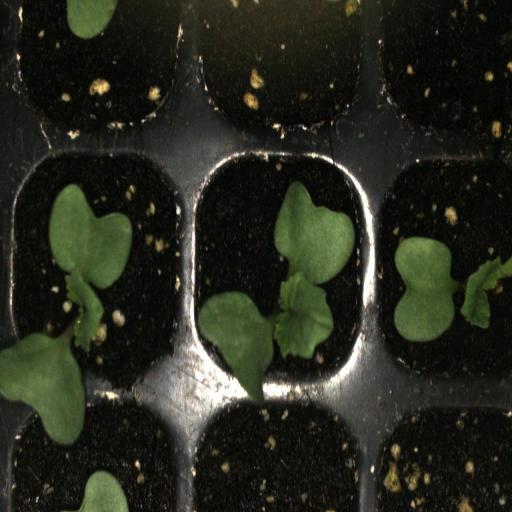noseedling: (188, 0, 370, 142), (185, 393, 369, 512), (372, 0, 512, 141), (373, 393, 512, 512)
seedling: (189, 142, 371, 395), (0, 146, 184, 388), (372, 142, 512, 392)
